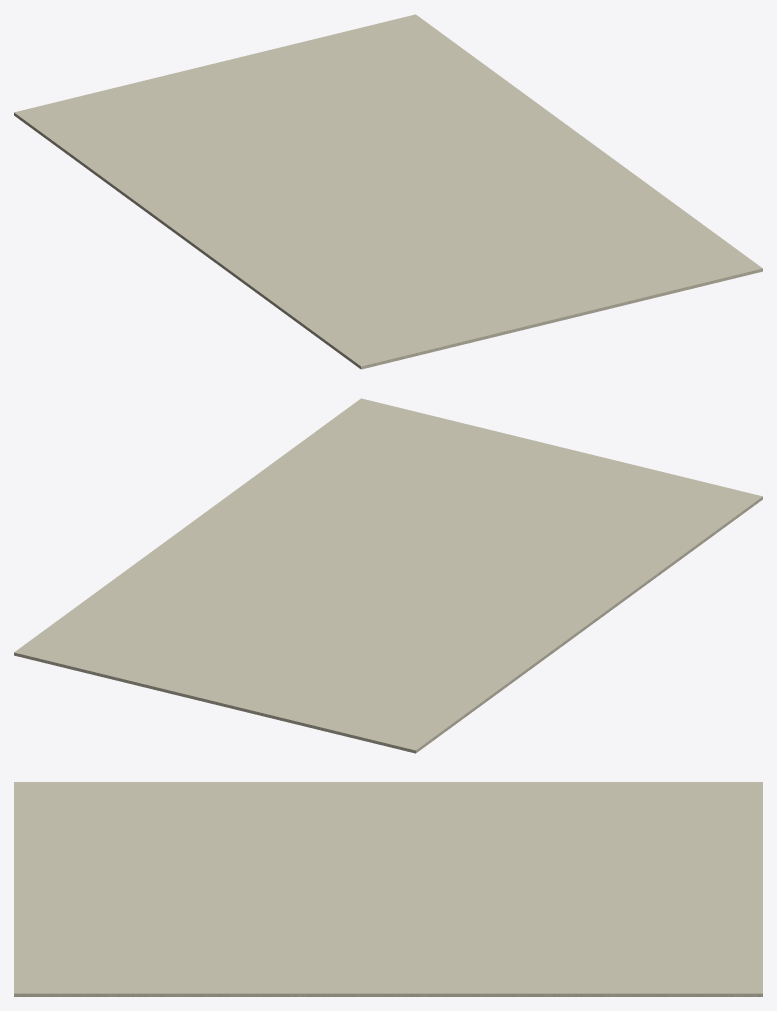
The model's file is Roof.obj.
3 views of the same model, one above another, from view 1: azimuth 30°, elevation 25°; view 2: azimuth 150°, elevation 25°; view 3: azimuth 270°, elevation 25° (orthographic). The views are drawn at different scales.
Parts seen in each view (by area): view 1: Box011; view 2: Box011; view 3: Box011.
Boxes of the visible parts, <box> form: Box011: <box>14,14,762,369</box>; Box011: <box>14,398,762,753</box>; Box011: <box>14,782,762,996</box>.
Bounding box in the file's own units: 1610 × 11.81 × 2409.
